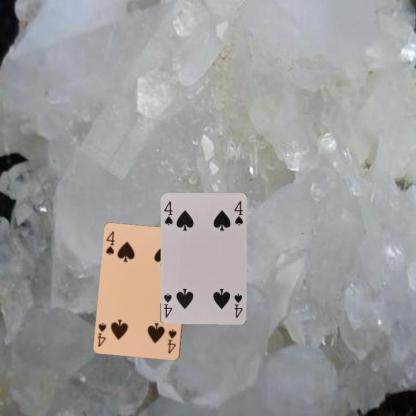4s: (165, 327, 178, 355), (232, 291, 244, 320), (162, 199, 174, 227), (104, 229, 116, 256)
